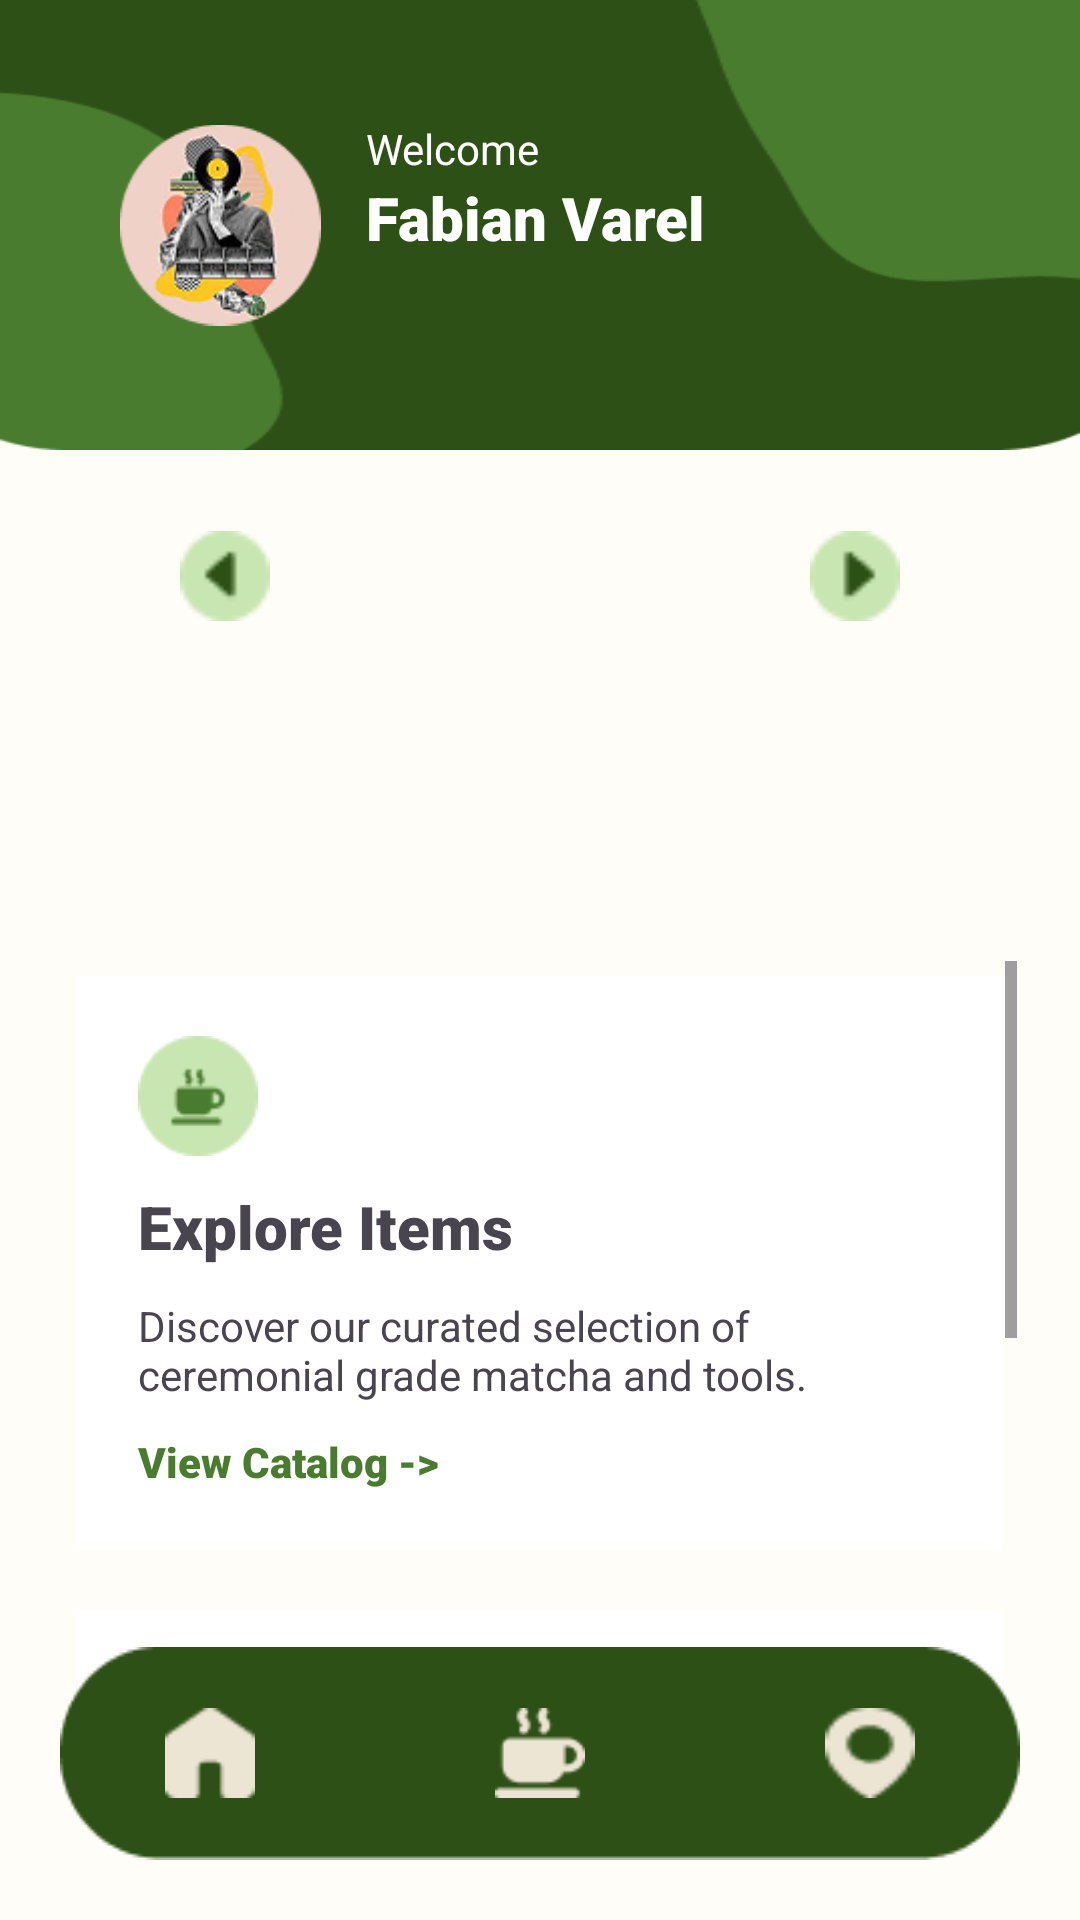

Named icons in this screenshot (1080x1920) and their centers, (x=x, y=y):
next: (x=855, y=576)
prev: (x=225, y=576)
